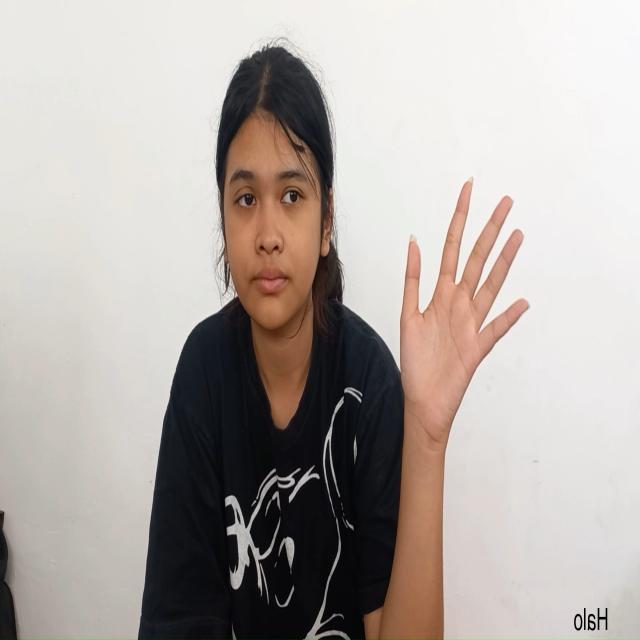Halo -BISINDO-: (388, 160, 537, 536)
